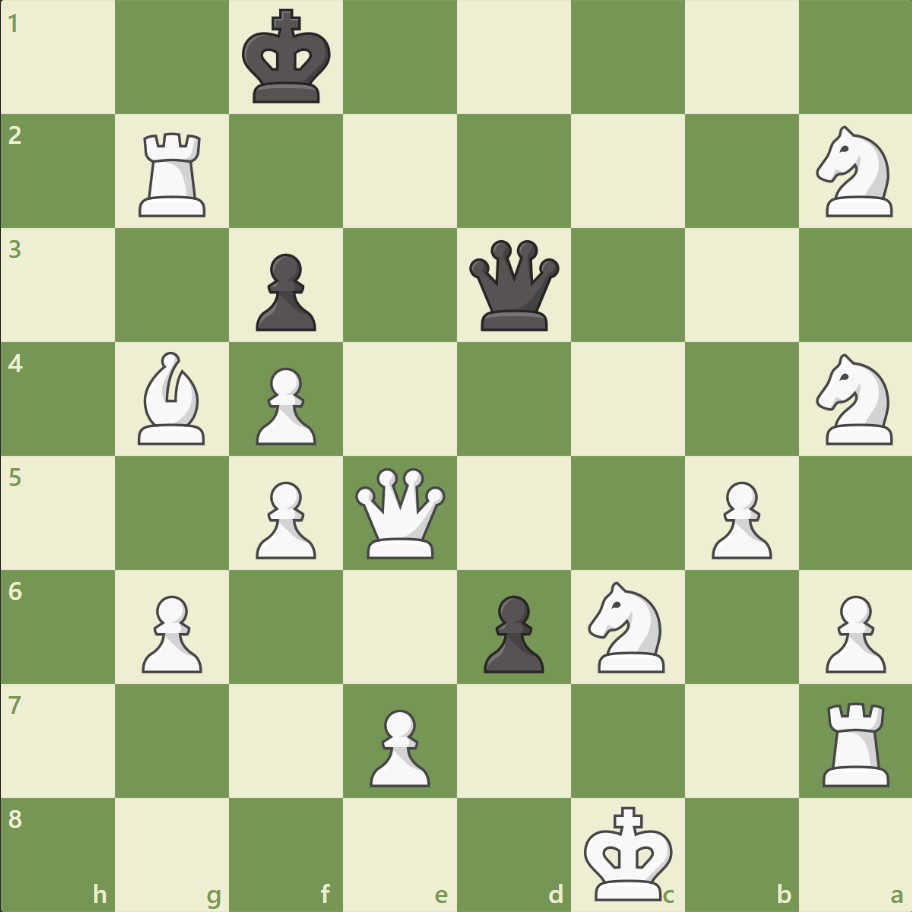B: (131, 347, 215, 449)
K: (579, 798, 679, 906)
N: (579, 575, 676, 677), (806, 348, 903, 450), (806, 121, 903, 223)
P: (133, 586, 208, 677), (701, 473, 776, 564), (247, 473, 322, 564), (247, 359, 322, 450), (361, 700, 435, 791), (815, 586, 889, 677)
Q: (351, 463, 450, 562)
R: (814, 693, 897, 790), (133, 125, 215, 222)
k: (238, 4, 338, 112)
p: (474, 586, 549, 677), (247, 246, 322, 337)
q: (464, 236, 563, 335)
